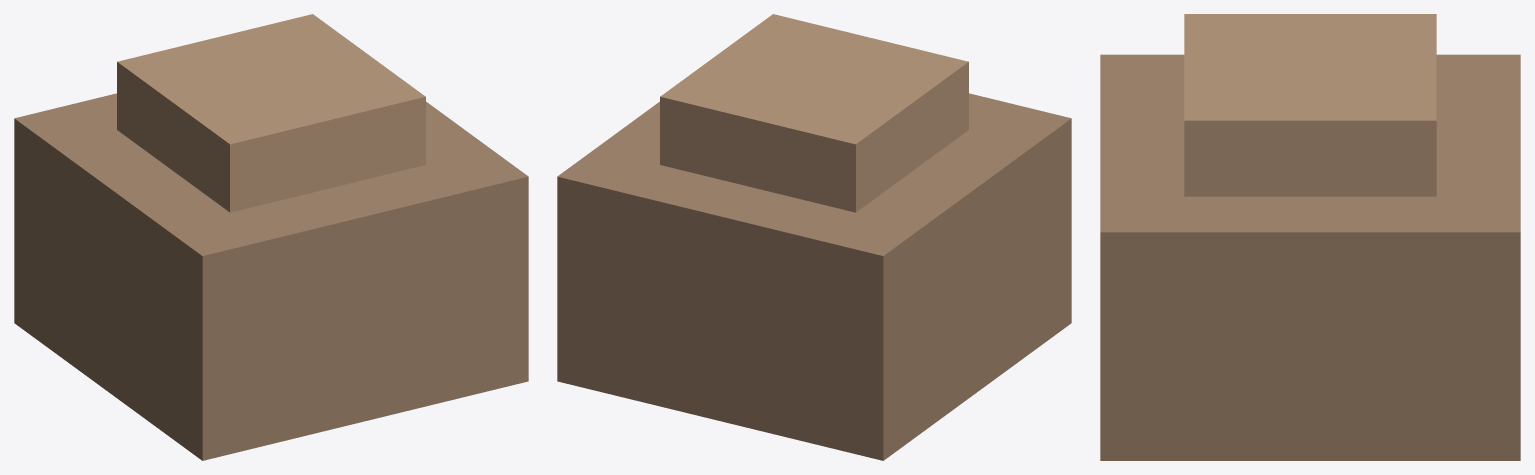
Rendered from oxido_01.glb.
The picture shows the model from 3 angles, left to right: view 1: azimuth 30°, elevation 25°; view 2: azimuth 150°, elevation 25°; view 3: azimuth 270°, elevation 25°; orthographic projection. The views are drawn at different scales.
Visible parts, largest first — view 1: oxido; view 2: oxido; view 3: oxido.
Part boxes in pixels (box(x1,y1,x2,y2)): oxido: box(14, 14, 528, 460); oxido: box(557, 14, 1071, 460); oxido: box(1100, 14, 1520, 460).
Bounding box in the file's own units: 0.625 × 0.5 × 0.625.
